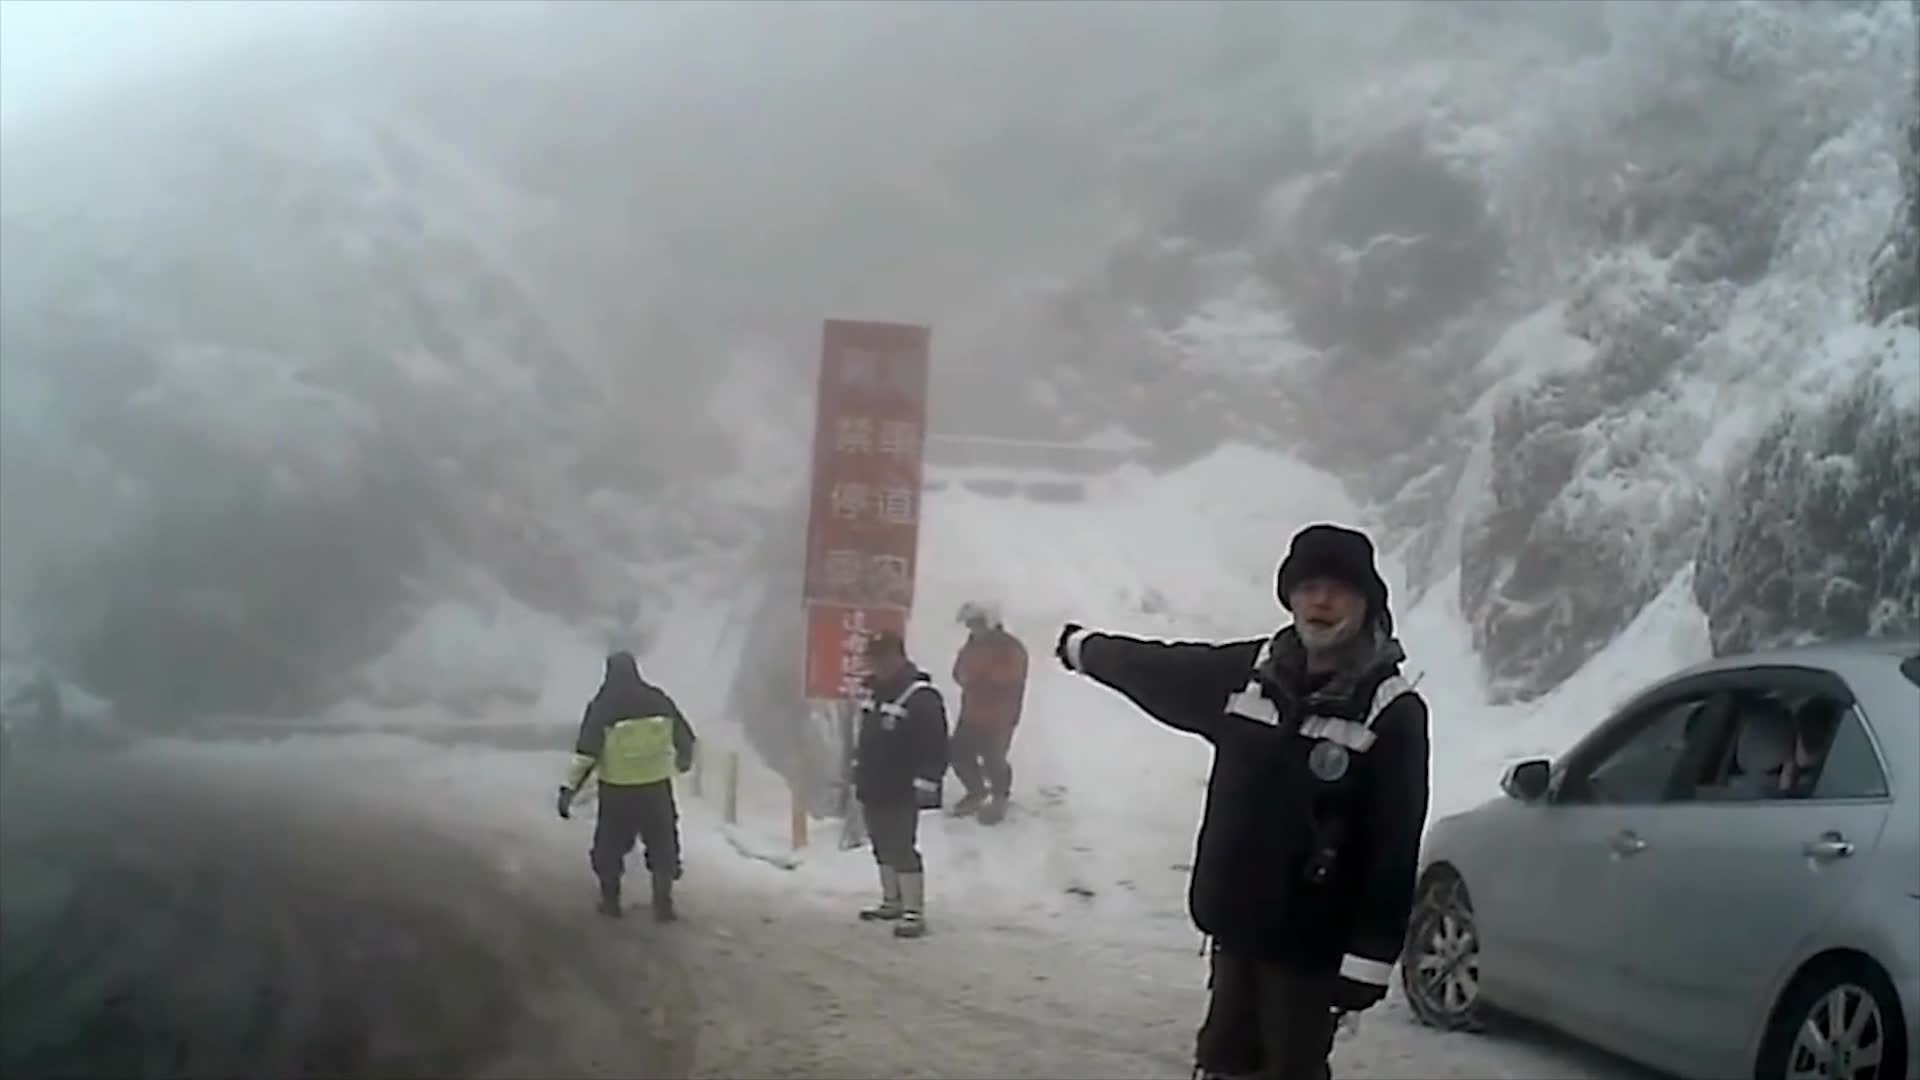pedestrian: (1054, 508, 1432, 1079), (562, 642, 704, 915), (848, 625, 952, 941), (949, 595, 1036, 820)
vehicle: (1392, 637, 1918, 1080)
